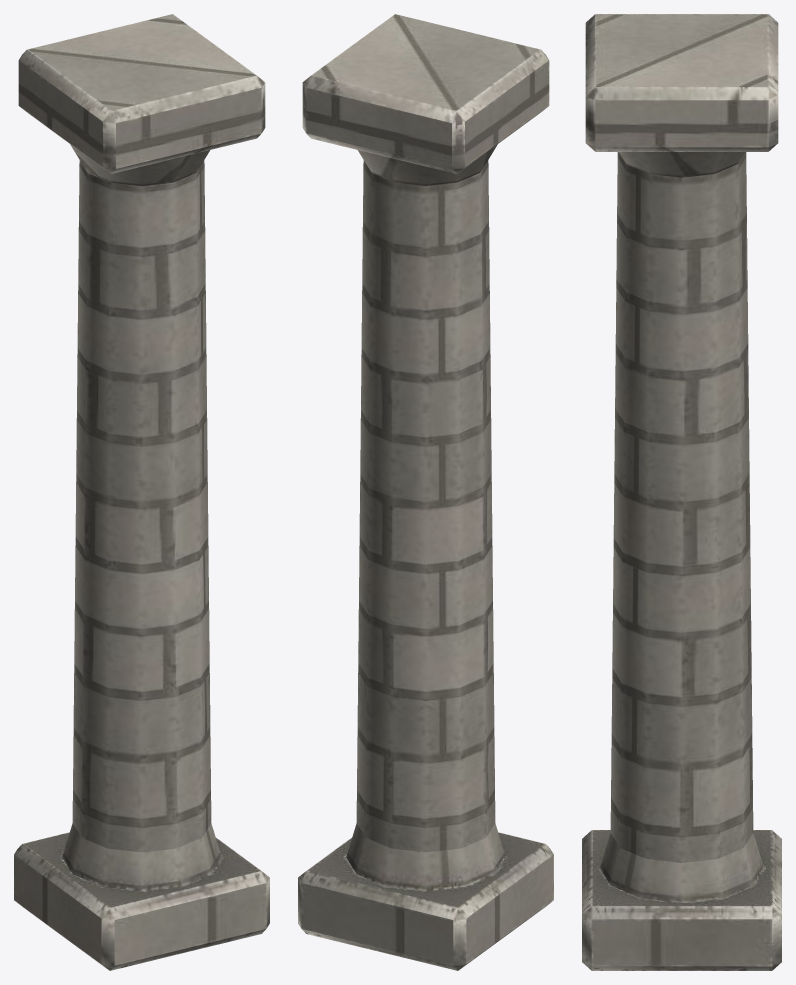
The model's file is coluna.glb.
3 renders of one model, left to right at view 1: azimuth 30°, elevation 25°; view 2: azimuth 150°, elevation 25°; view 3: azimuth 270°, elevation 25°, orthographic. The views are drawn at different scales.
Visible parts, largest first — view 1: coluna; view 2: coluna; view 3: coluna.
Part boxes in pixels (left/top/right/bottom): coluna: left=14, top=14, right=269, bottom=970; coluna: left=298, top=14, right=553, bottom=970; coluna: left=582, top=14, right=781, bottom=970.
Size of the model in its own units: 0.616 by 3 by 0.616.
Materials: 1 (1 with a texture image).
